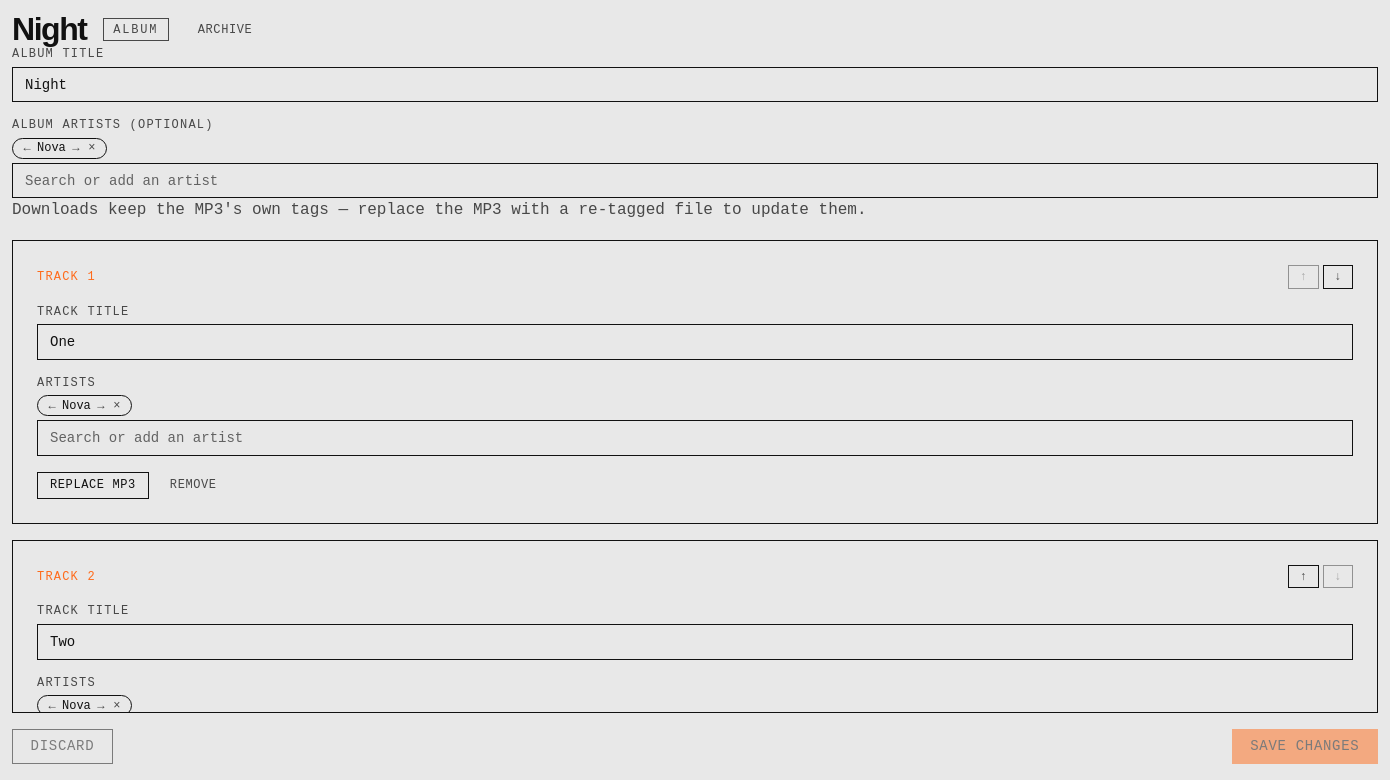
Test: EditReleaseForm › disables header Archive while dirty
Expected: the button with aria-label "Archive Night" is enabled, top-left (185, 16), bottom-right (265, 43)
Type "!" into the field labelled "Album title".
click(695, 85); type("!")  # box top-left (12, 67), bottom-right (1378, 102)
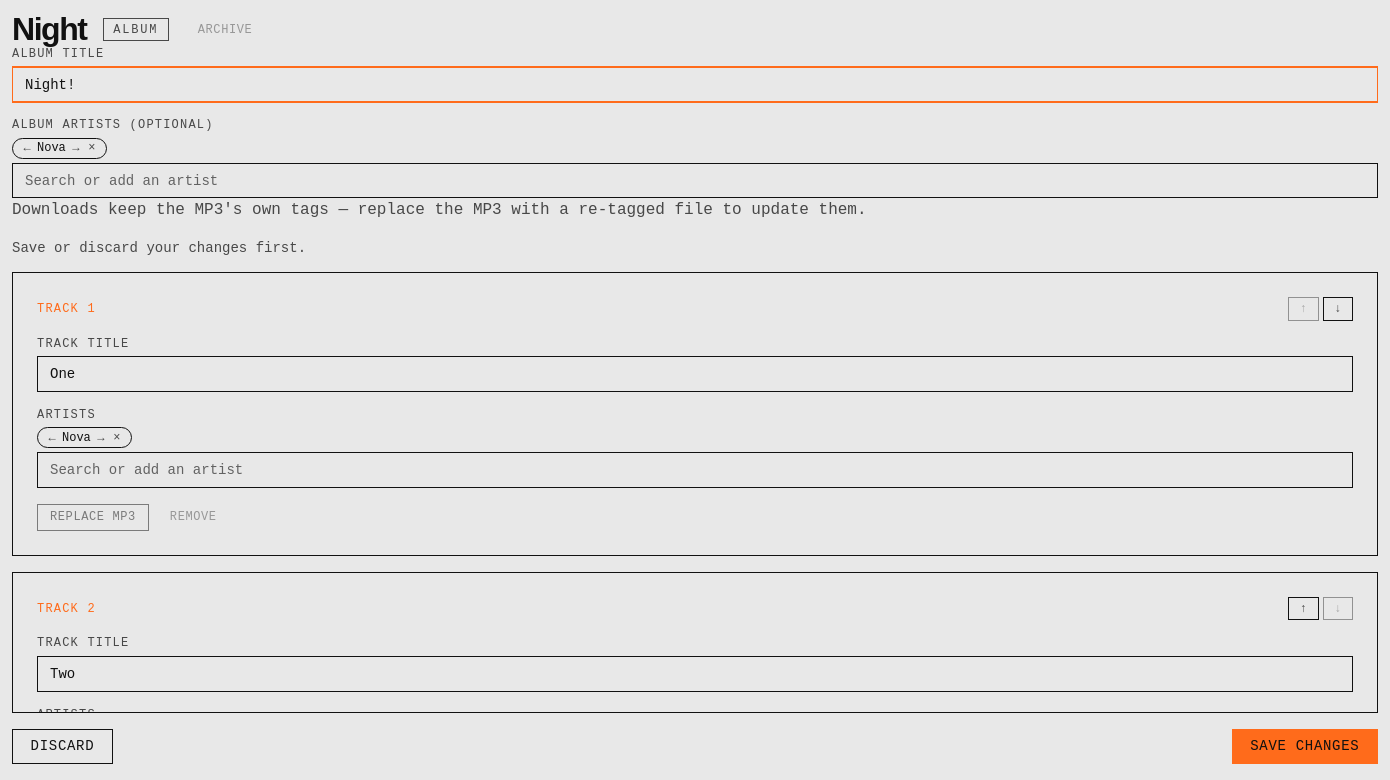
Expected: the button with aria-label "Archive Night" is disabled, top-left (185, 16), bottom-right (265, 43)
